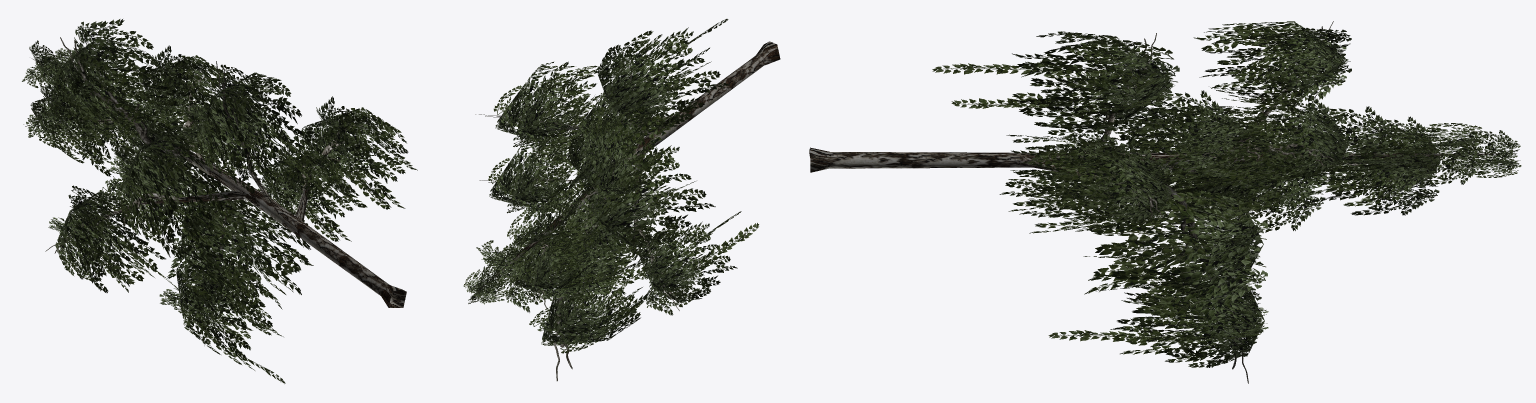
File: MEP_Birch_01_f.fbx
3 renders of one model, left to right at view 1: azimuth 30°, elevation 25°; view 2: azimuth 150°, elevation 25°; view 3: azimuth 270°, elevation 25°, orthographic. The views are drawn at different scales.
Parts seen in each view (by area): view 1: MEP_Birch_01_f, MEP_Birch_Bark_01_f; view 2: MEP_Birch_01_f, MEP_Birch_Bark_01_f; view 3: MEP_Birch_01_f, MEP_Birch_Bark_01_f.
Boxes of the visible parts, x1,y1,x2,y2 form: MEP_Birch_01_f: (22, 19, 417, 383); MEP_Birch_Bark_01_f: (31, 58, 406, 307); MEP_Birch_01_f: (463, 19, 758, 381); MEP_Birch_Bark_01_f: (477, 41, 780, 291); MEP_Birch_01_f: (932, 21, 1521, 383); MEP_Birch_Bark_01_f: (809, 147, 1513, 179).
Size of the model in its own units: 10.28 by 11.17 by 20.65.
